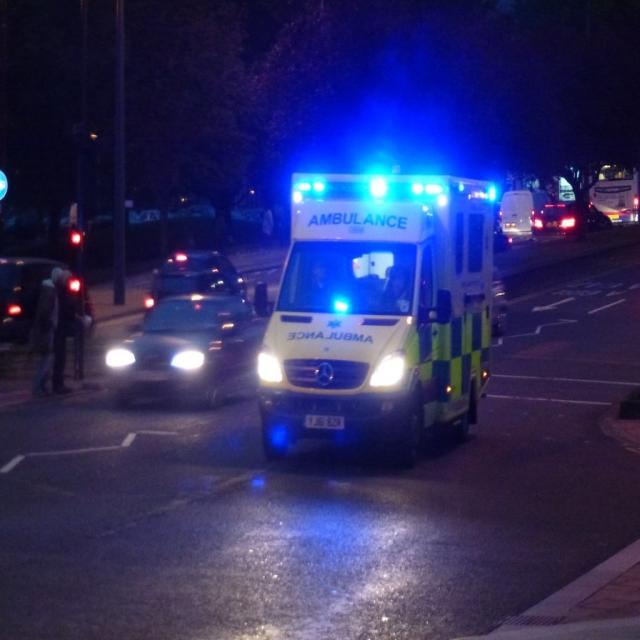ambulance: (255, 168, 498, 465)
